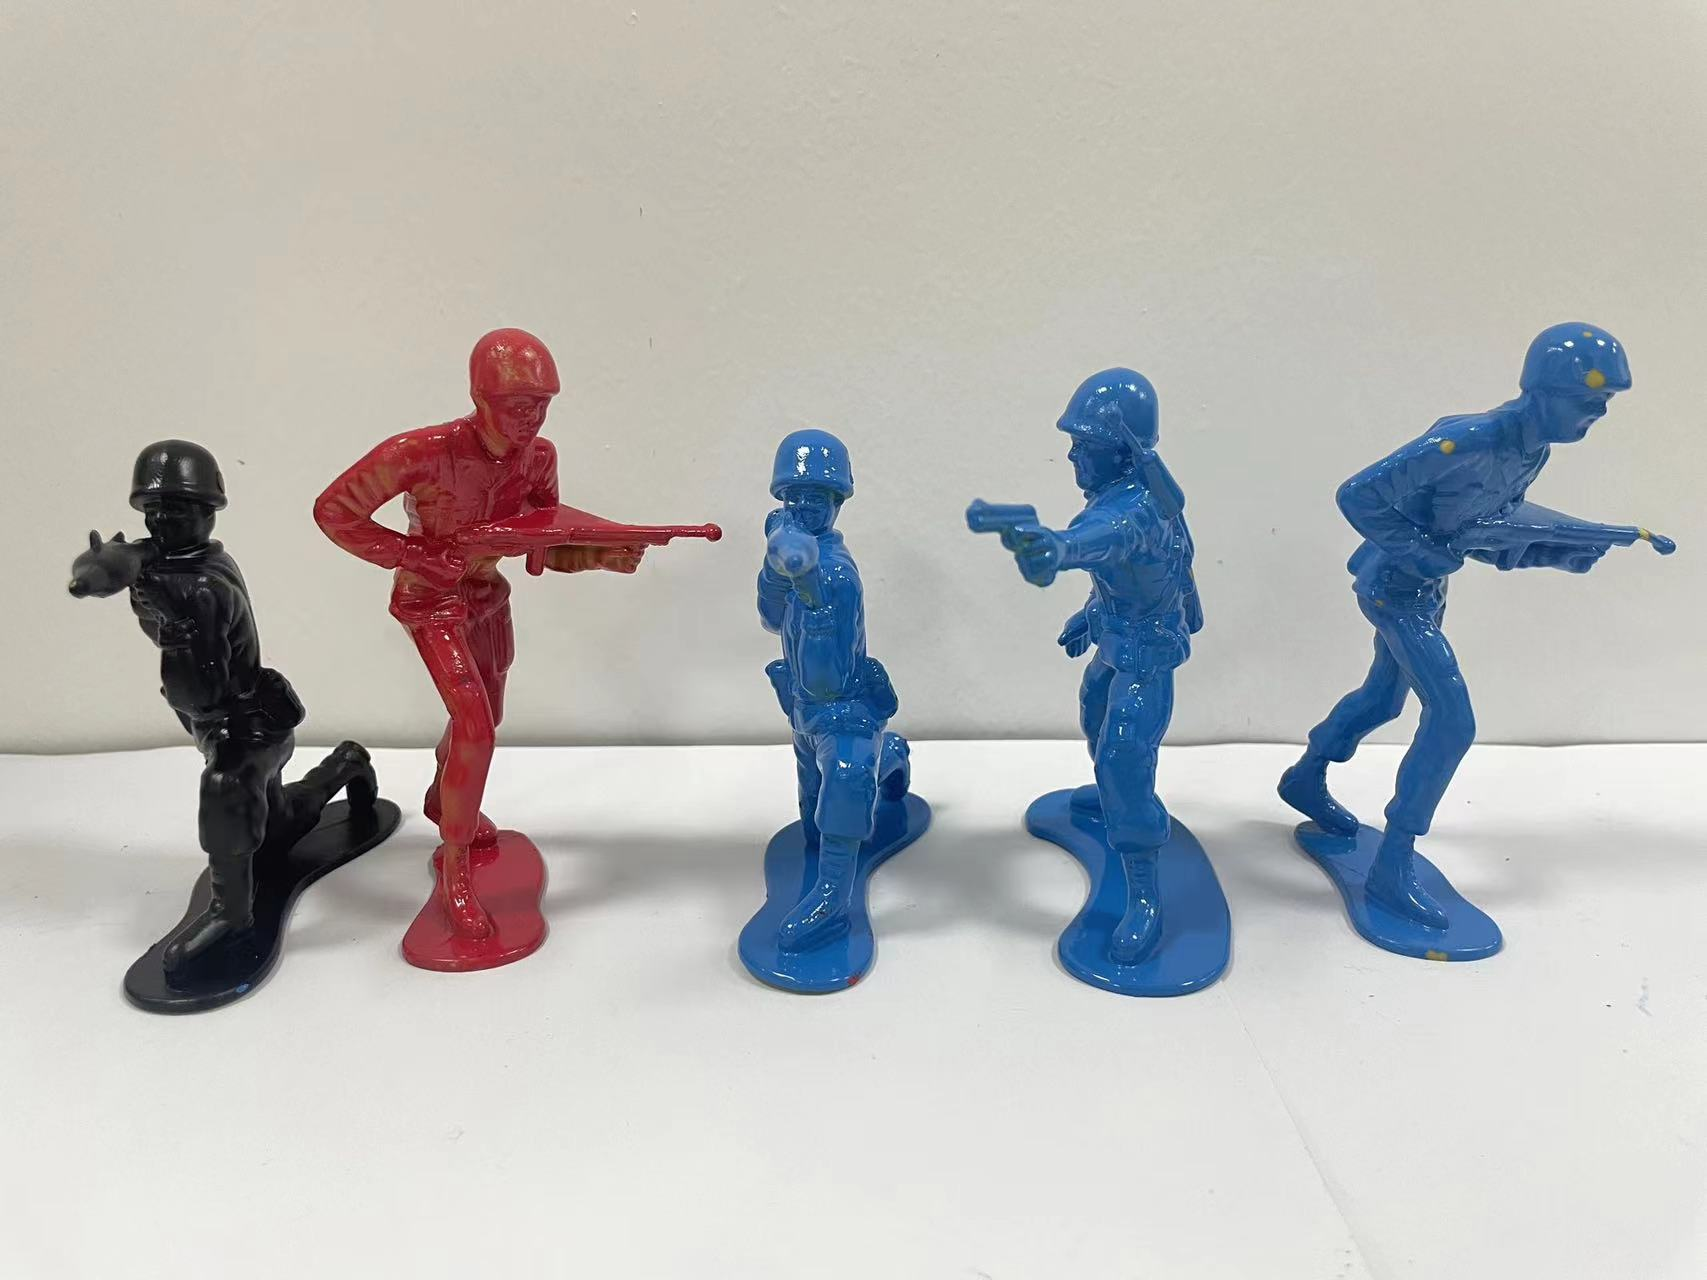black: (34, 418, 358, 1029)
blue: (1290, 286, 1690, 1011), (964, 337, 1269, 1021), (708, 379, 961, 1035)
red: (319, 280, 703, 1011)
